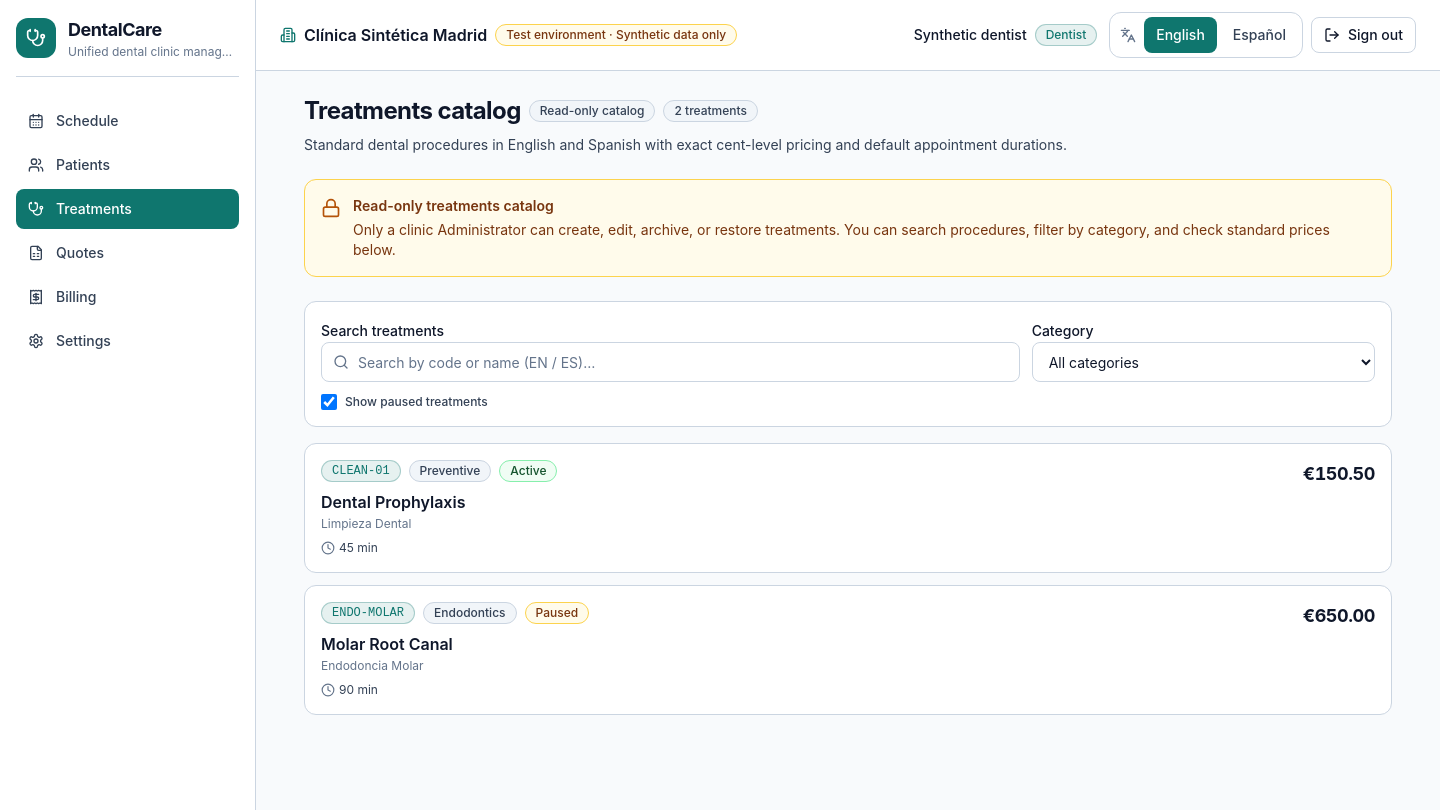
T-07 Treatments catalog UI flow (/treatments) › 4. Switches EN <-> ES showing localized names, translated categories, and locale-formatted currency
The width and height of the screenshot is (1440, 810).
Check: the heading "Dental Prophylaxis" is shown, box [321, 492, 465, 512]
Check: the text "€150.50" is shown, box [1303, 460, 1375, 488]
Note: Switch language to Spanish using shell language toggle
What coordinates should you click on to do the following:
click the button with aria-label "Switch language to Spanish"
I would click on:
 (1259, 35)
Its box is [1221, 17, 1298, 53].
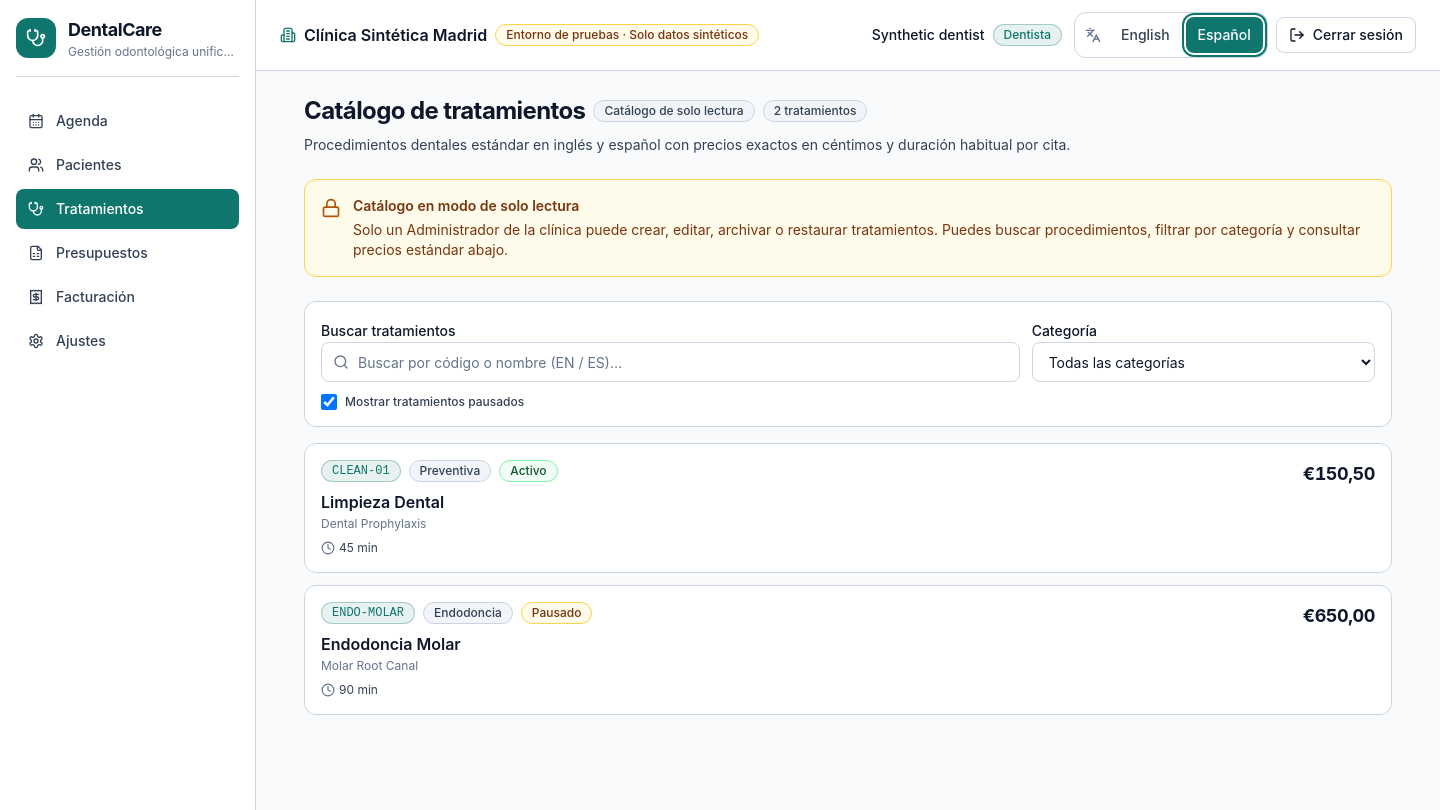
Check: the heading "Limpieza Dental" is shown, box [321, 492, 444, 512]
Check: the text "€150,50" is shown, box [1303, 460, 1375, 488]
Check: the text "Preventiva" is shown, box [409, 460, 491, 482]
